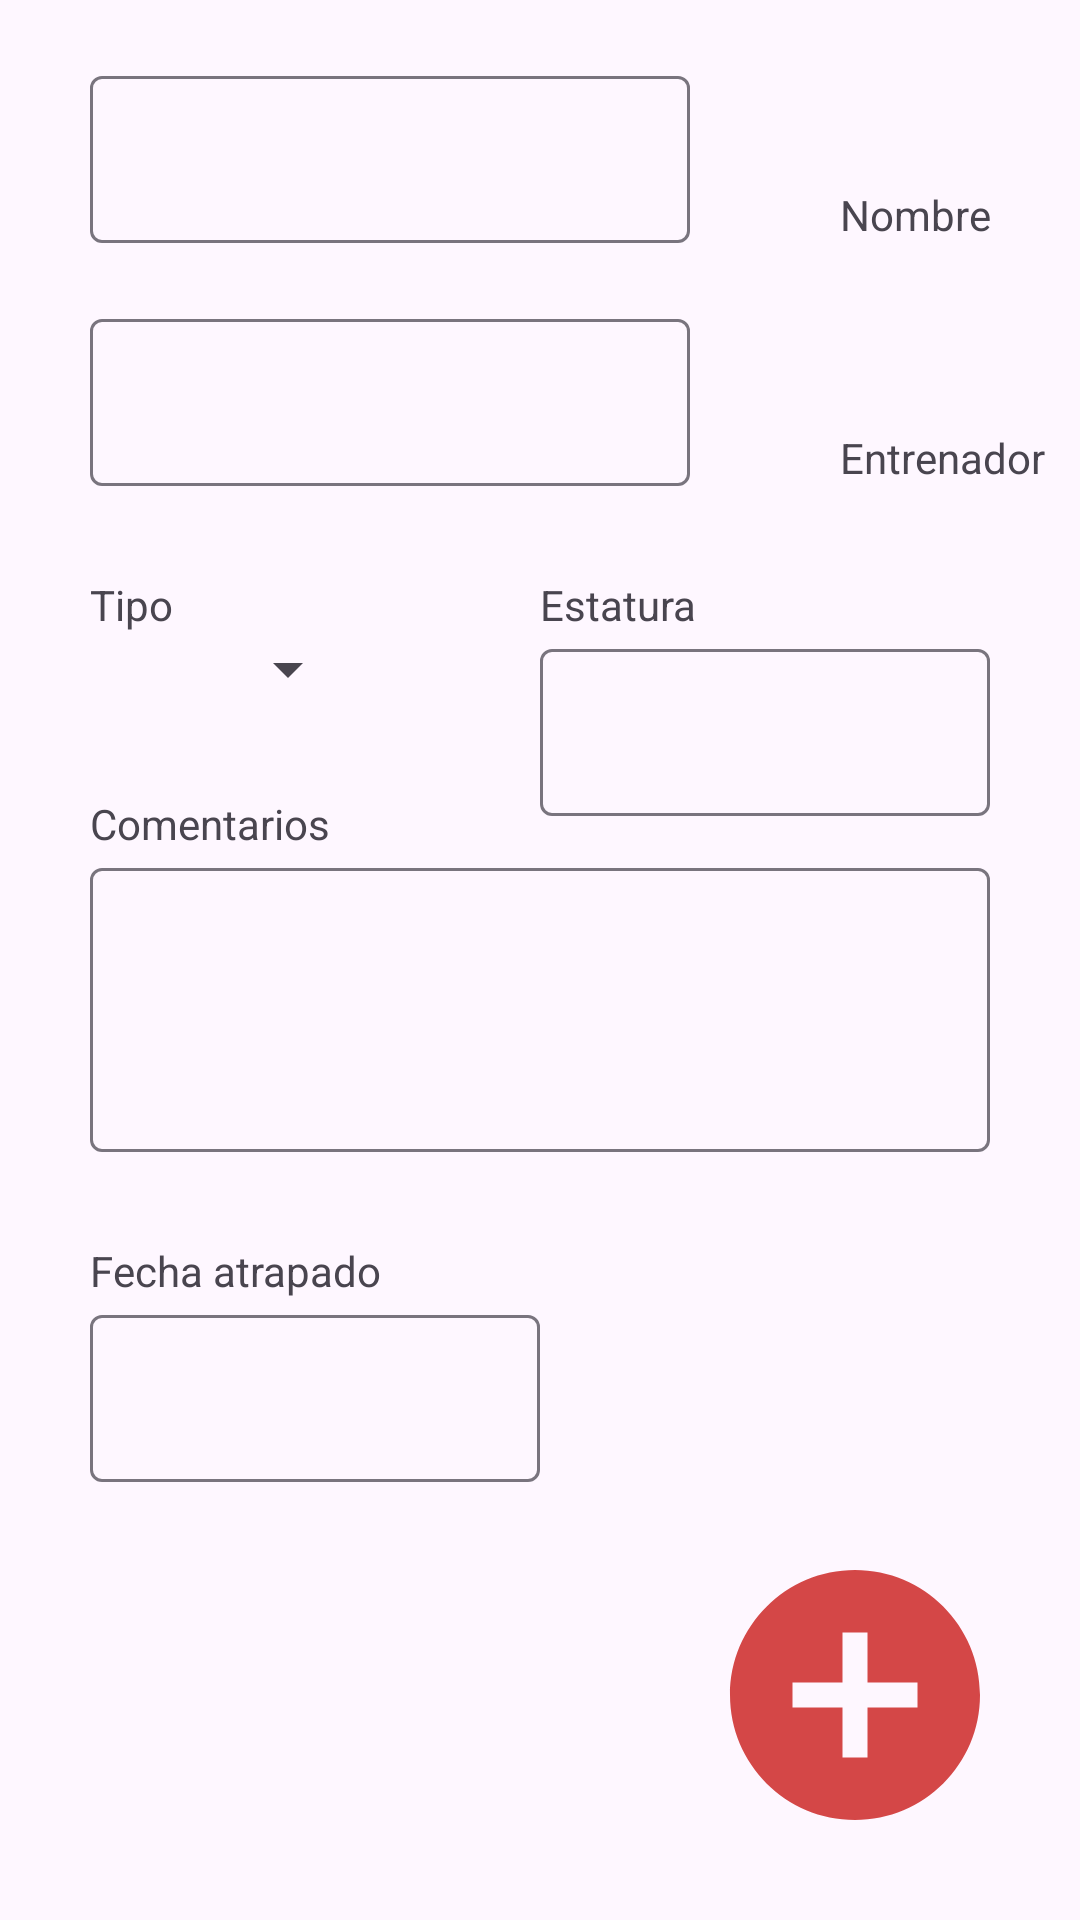

Where to tap for icons on this 1080×1920 app screen, as [x,y]:
add: [855,1695]
